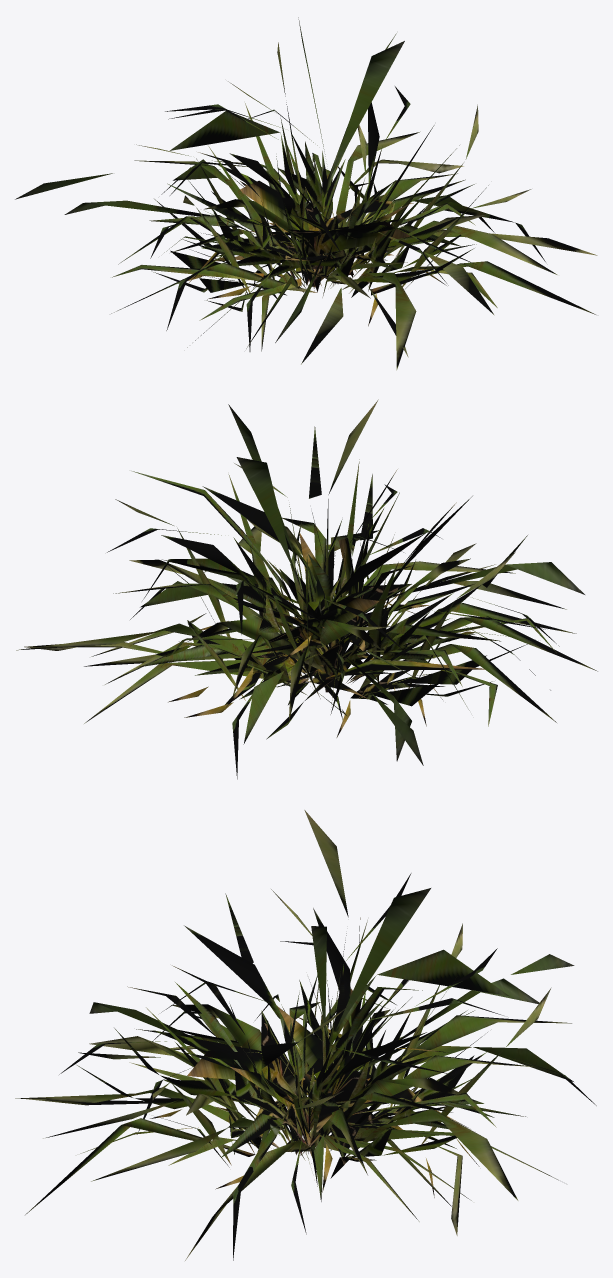
The model's file is SM_Grass_02.gltf.
3 views of the same model, one above another, from view 1: azimuth 30°, elevation 25°; view 2: azimuth 150°, elevation 25°; view 3: azimuth 270°, elevation 25° (orthographic). The views are drawn at different scales.
Visible parts, largest first — view 1: SM_Grass_02; view 2: SM_Grass_02; view 3: SM_Grass_02.
Part boxes in pixels (box(x1,y1,x2,y2)): SM_Grass_02: box(15, 17, 597, 370); SM_Grass_02: box(16, 399, 597, 779); SM_Grass_02: box(15, 810, 596, 1260).
Size of the model in its own units: 0.2457 by 0.1416 by 0.2372.
1 material, 1 textured.
